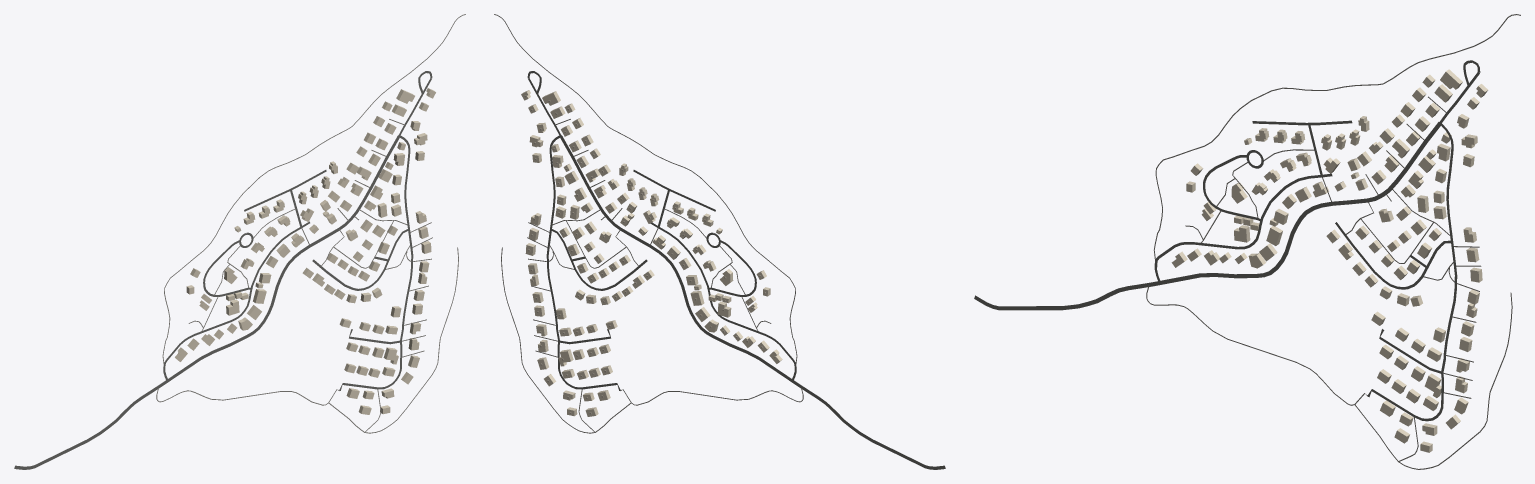
The model's file is historic-palestine-08_19_3501_3138.glb.
3 views of the same model, side by side, from view 1: azimuth 30°, elevation 25°; view 2: azimuth 150°, elevation 25°; view 3: azimuth 330°, elevation 25° (orthographic). The views are drawn at different scales.
Parts seen in each view (by area): view 1: Road תמר, Road תאנה, Road .002, Road גפן; view 2: Road תמר, Road תאנה, Road .002, Road גפן; view 3: Road תמר, Road תאנה, Road .002, Road גפן.
Boxes of the visible parts, box(x1,y1,x2,y2) form: Road תמר: box(14, 135, 399, 469); Road תאנה: box(339, 135, 413, 390); Road .002: box(162, 14, 465, 364); Road גפן: box(163, 221, 309, 380); Road תמר: box(559, 135, 945, 469); Road תאנה: box(546, 135, 620, 390); Road .002: box(494, 14, 797, 366); Road גפן: box(650, 222, 796, 381); Road תמר: box(974, 122, 1441, 310); Road תאנה: box(1367, 123, 1457, 421); Road .002: box(1153, 14, 1520, 262); Road גפן: box(1154, 173, 1332, 282).
Bounding box in the file's own units: 721 × 606 × 8.7.
